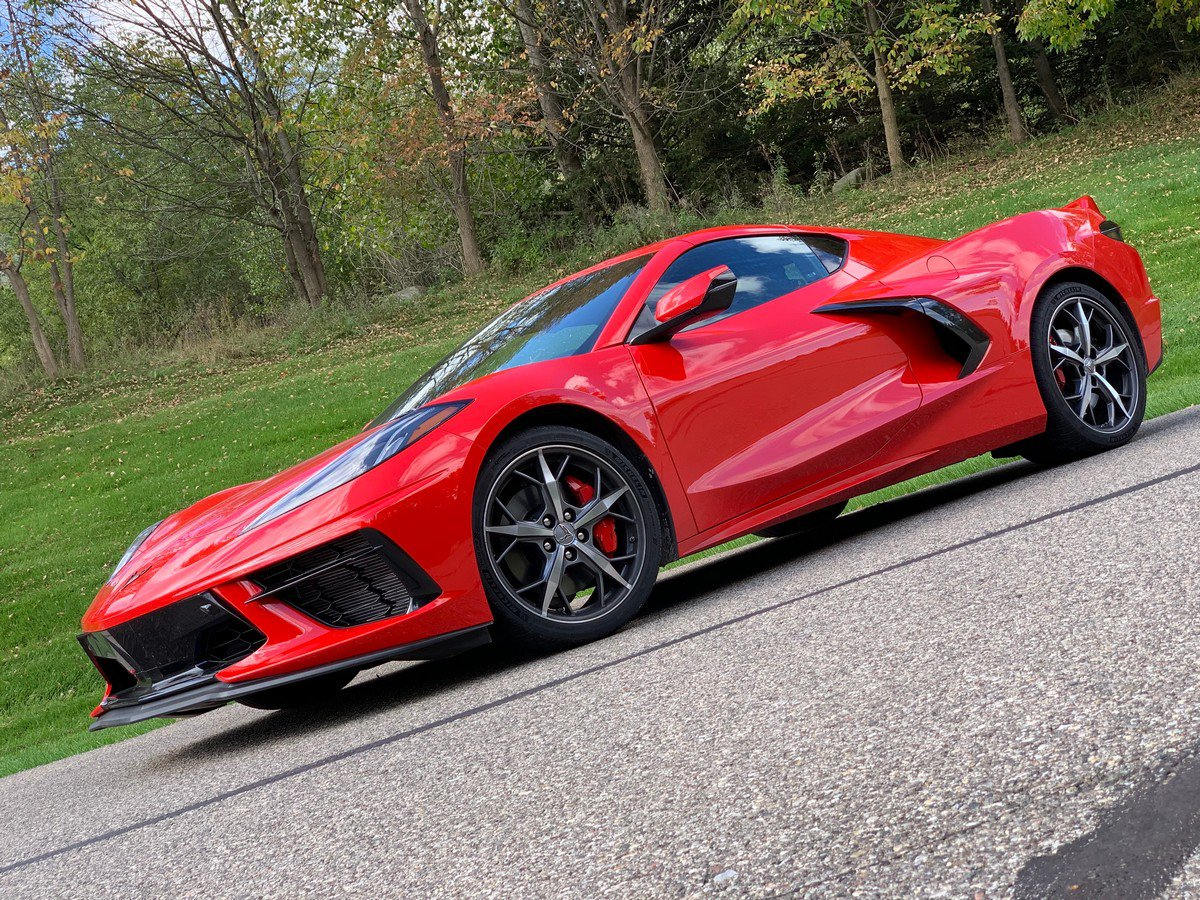car: (76, 213, 1149, 720)
